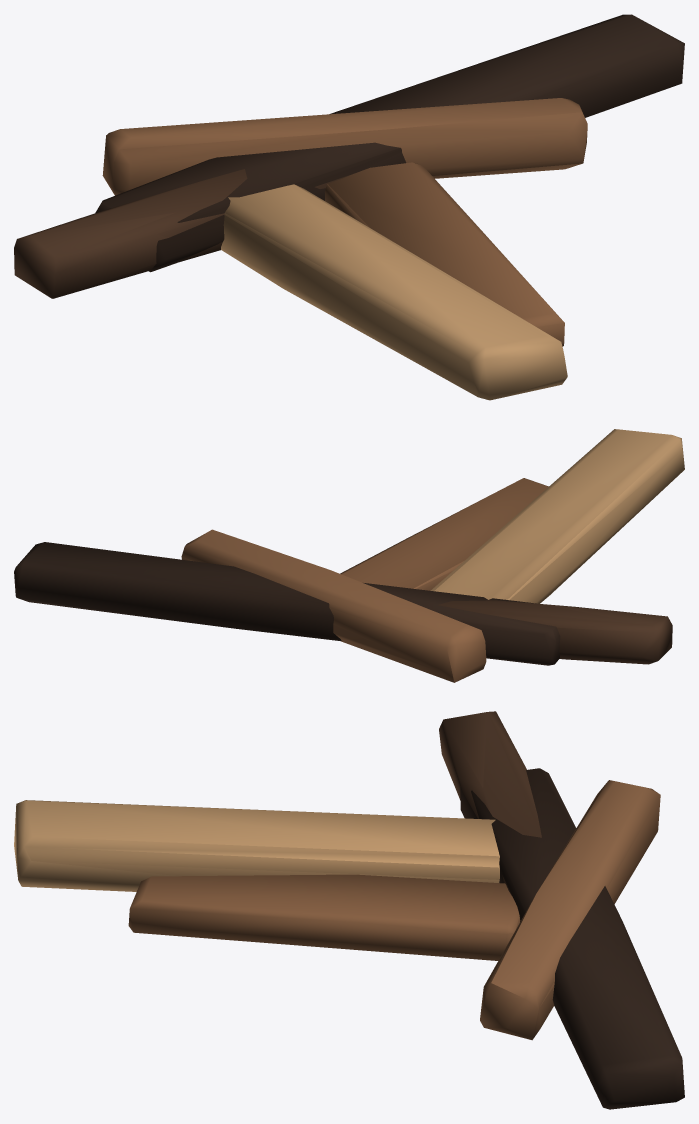
The model's file is ember_gc_wood_chips_a_lod1.glb.
3 renders of one model, top to bottom at view 1: azimuth 30°, elevation 25°; view 2: azimuth 150°, elevation 25°; view 3: azimuth 270°, elevation 25°, orthographic. The views are drawn at different scales.
Visible parts, largest first — view 1: ember_gc_wood_chips_a.001; view 2: ember_gc_wood_chips_a.001; view 3: ember_gc_wood_chips_a.001.
Part boxes in pixels (bbox=[...]): ember_gc_wood_chips_a.001: bbox=[14, 14, 684, 400]; ember_gc_wood_chips_a.001: bbox=[14, 429, 684, 682]; ember_gc_wood_chips_a.001: bbox=[14, 711, 684, 1109].
Bounding box in the file's own units: 2.5 × 0.2778 × 2.08.
